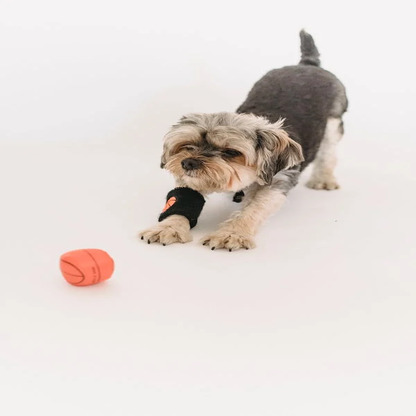yorkshire: (138, 27, 349, 250)
